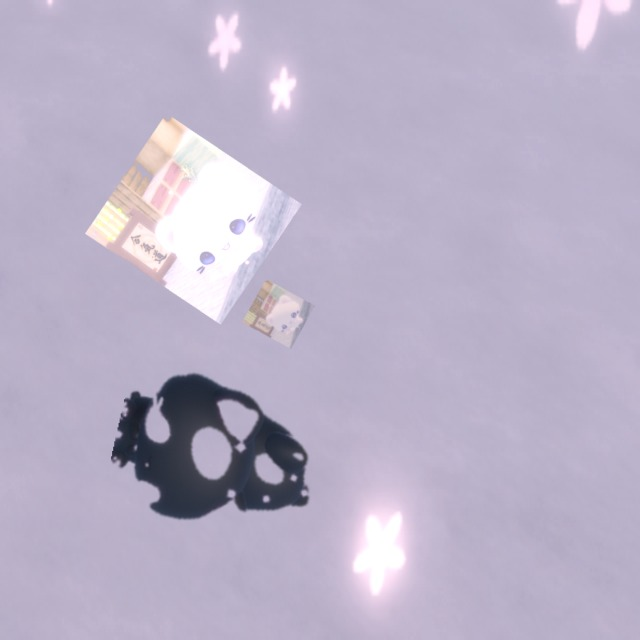urso_branco: (85, 113, 302, 325), (242, 279, 315, 349)
urso_preto: (97, 353, 346, 564)
